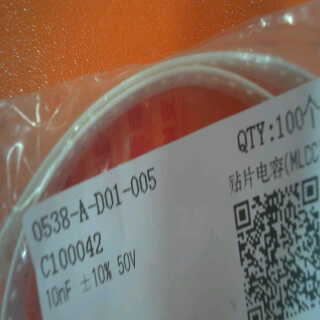10nF: (38, 275, 76, 316)
